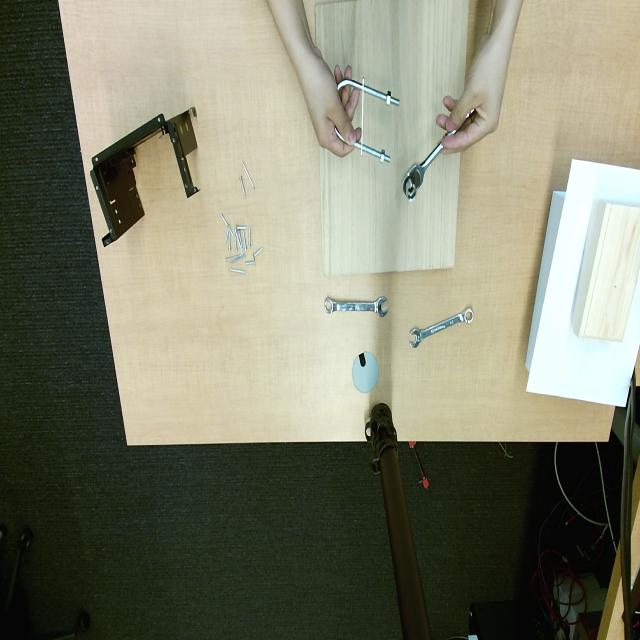wrench: (410, 307, 474, 348), (402, 140, 442, 202), (325, 296, 388, 318), (445, 109, 475, 134)
